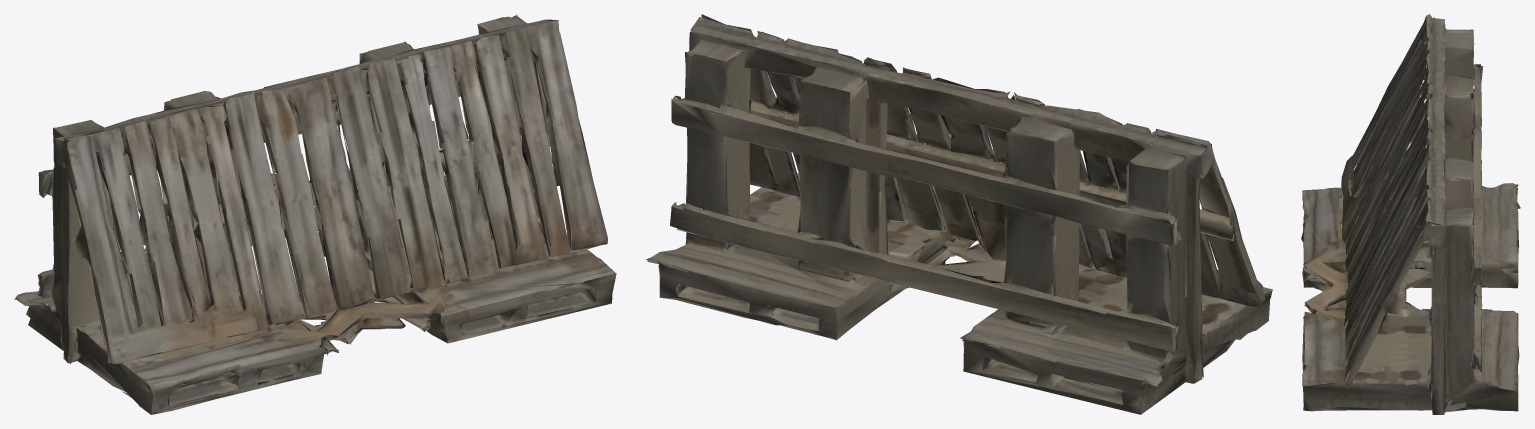
Rendered from prop_pallet_barricade.glb.
The picture shows the model from 3 angles, left to right: view 1: azimuth 30°, elevation 25°; view 2: azimuth 150°, elevation 25°; view 3: azimuth 270°, elevation 25°; orthographic projection. The views are drawn at different scales.
Parts seen in each view (by area): view 1: prop_pallet_barricade; view 2: prop_pallet_barricade; view 3: prop_pallet_barricade.
Boxes of the visible parts, x1,y1,x2,y2 form: prop_pallet_barricade: [14, 14, 616, 414]; prop_pallet_barricade: [645, 14, 1272, 414]; prop_pallet_barricade: [1301, 14, 1520, 414].
Bounding box in the file's own units: 3 × 1.32 × 1.32.
Materials: 1 (1 with a texture image).
